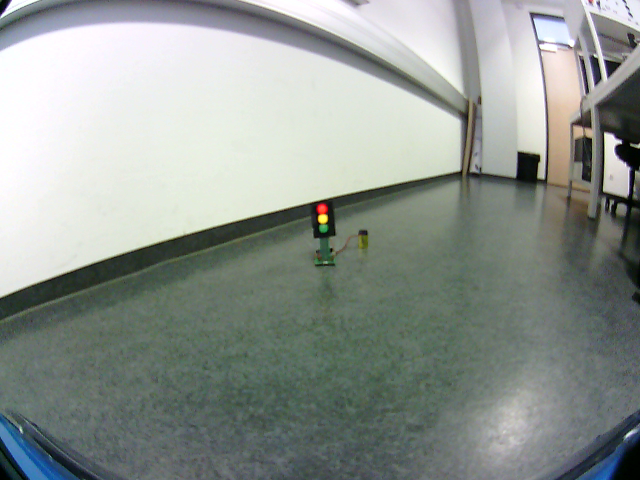red yellow trafficlight: (312, 202, 334, 236)
